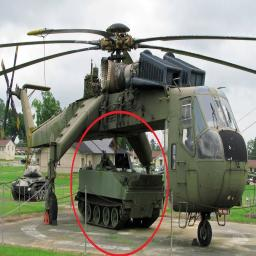helicopter: (4, 14, 256, 217)
